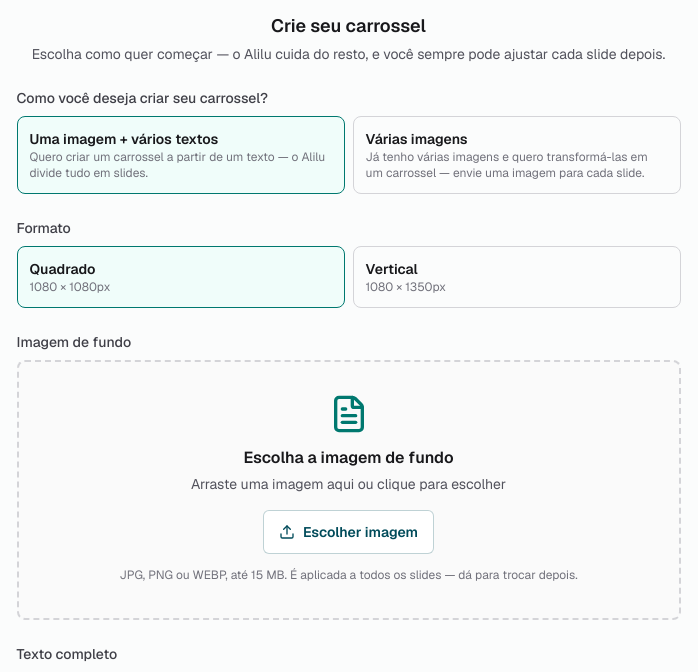
Test: CarouselQuickCreate — modo 'Várias imagens' › trocar para 'Várias imagens' mostra a área de upload múltiplo, sem nenhum conteúdo do modo anterior
Click the button "Várias imagens". click: (516, 155)
box: x1=352 y1=116 x2=680 y2=194
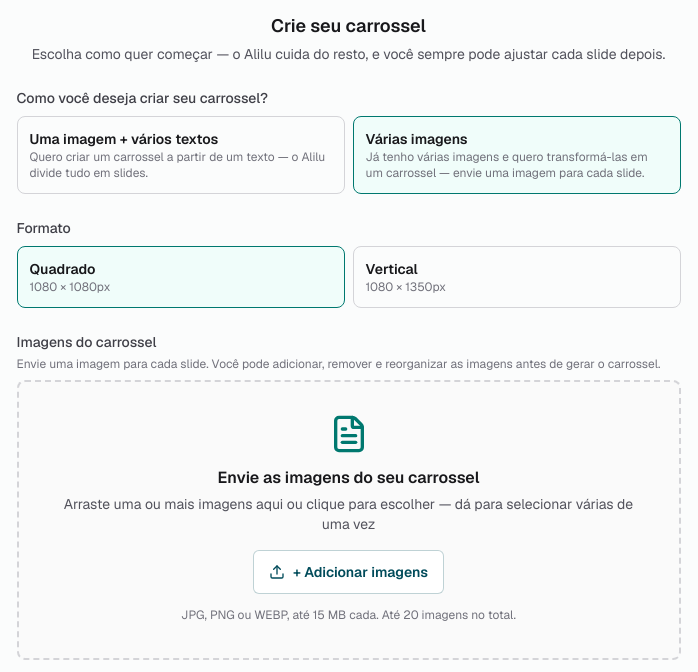
Expected: the text "Imagens do carrossel" is shown, x1=16 y1=333 x2=156 y2=351
Expected: the text "Envie uma imagem para cada slide. Você pode adicionar, remover e reorganizar as imagens antes de gerar o carrossel." is shown, x1=16 y1=356 x2=660 y2=372
Expected: the text "Escolha a imagem de fundo" is gone
